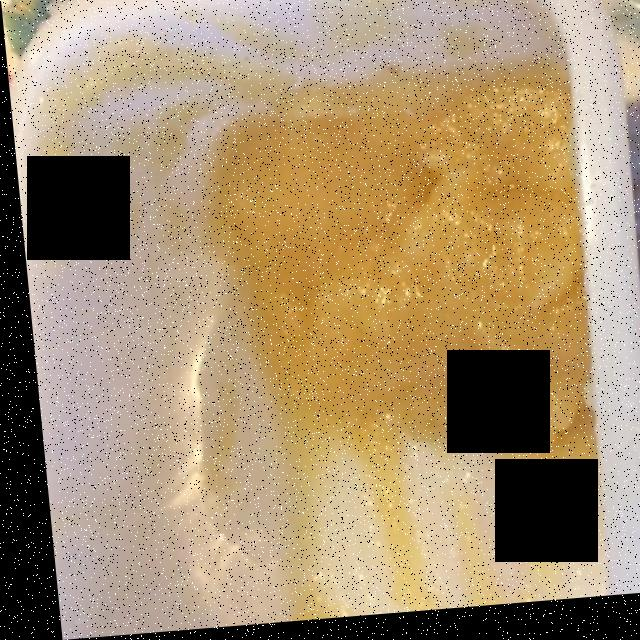applesauce-unsweetened-canned: (190, 54, 586, 516)
